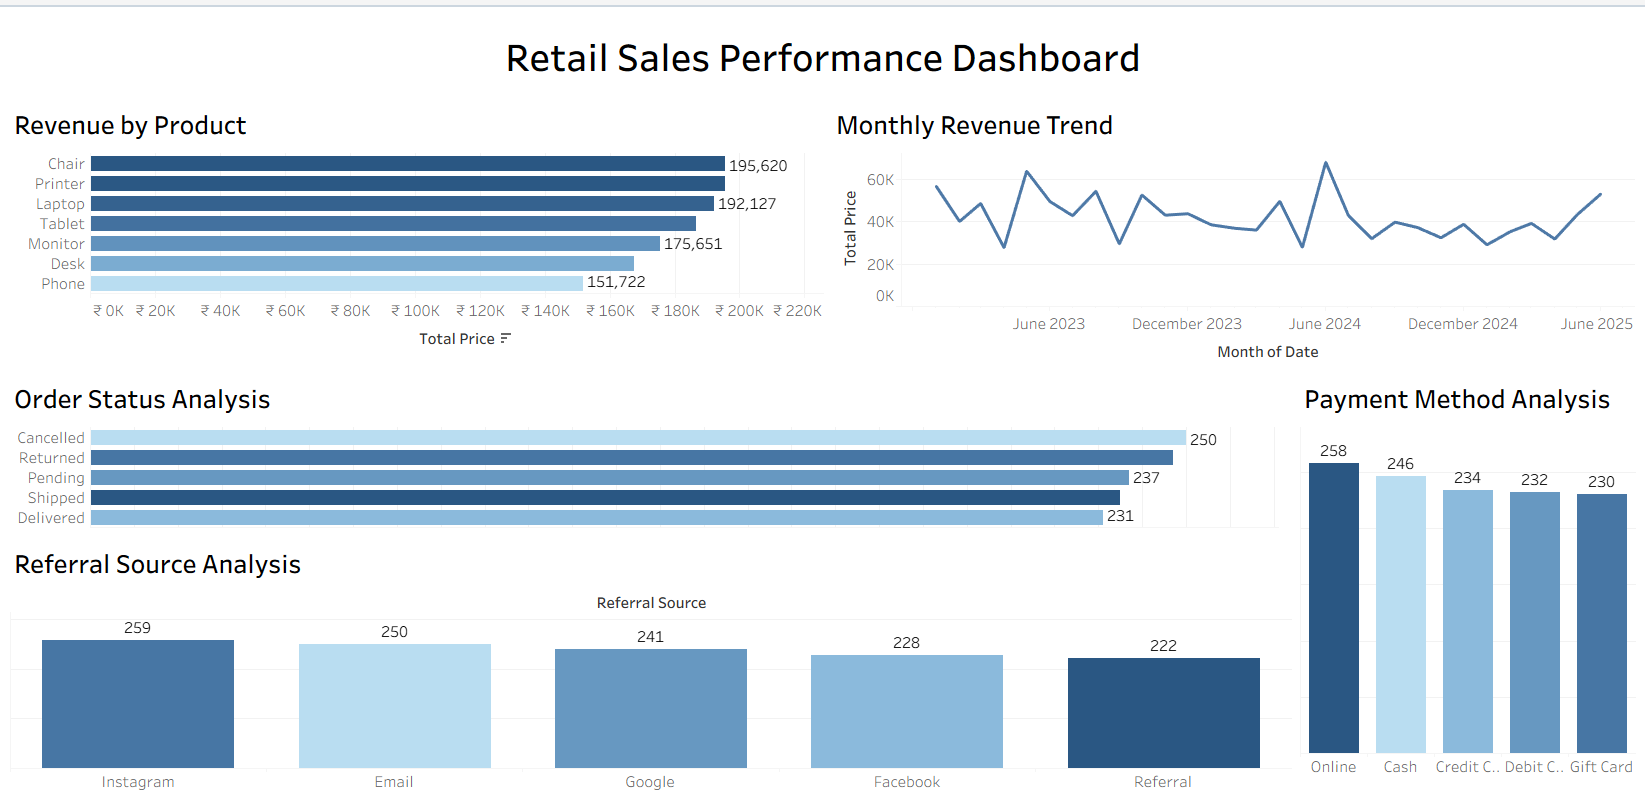

What the dashboard file says about the page in this screenshot:
{"tool":"tableau","page":{"name":"Sales Performance Dashboard","canvas":[1650,800],"ordinal":0},"visuals":[{"type":"text","box":[8,8,1634,85.5]},{"type":"worksheet","title":"Revenue by Product","mark":"Automatic","rows":["Product"],"cols":["TotalPrice"],"box":[8,93.5,822.5,274.5]},{"type":"worksheet","title":"Monthly Revenue Trend","mark":"Automatic","rows":["TotalPrice"],"cols":["Date"],"box":[830.5,93.5,811.5,274.5]},{"type":"worksheet","title":"Order Status Analysis","mark":"Automatic","rows":["OrderStatus"],"cols":["OrderID"],"box":[8,368,1277,182]},{"type":"worksheet","title":"Payment Method Analysis","mark":"Automatic","rows":["OrderID"],"cols":["PaymentMethod"],"box":[1285,368,357,424]},{"type":"worksheet","title":"Referral Source Analysis","mark":"Automatic","rows":["OrderID"],"cols":["ReferralSource"],"box":[8,550,1277,242]}]}

Visuals, with their boxes in screenshot pixels (x1, y1, x2, y2), scaled from the page's 1650x800 canvas onto the 1645x801 screenshot:
text: box=[8, 8, 1637, 94]
"Revenue by Product" worksheet: box=[8, 94, 828, 368]
"Monthly Revenue Trend" worksheet: box=[828, 94, 1637, 368]
"Order Status Analysis" worksheet: box=[8, 368, 1281, 551]
"Payment Method Analysis" worksheet: box=[1281, 368, 1637, 793]
"Referral Source Analysis" worksheet: box=[8, 551, 1281, 793]
